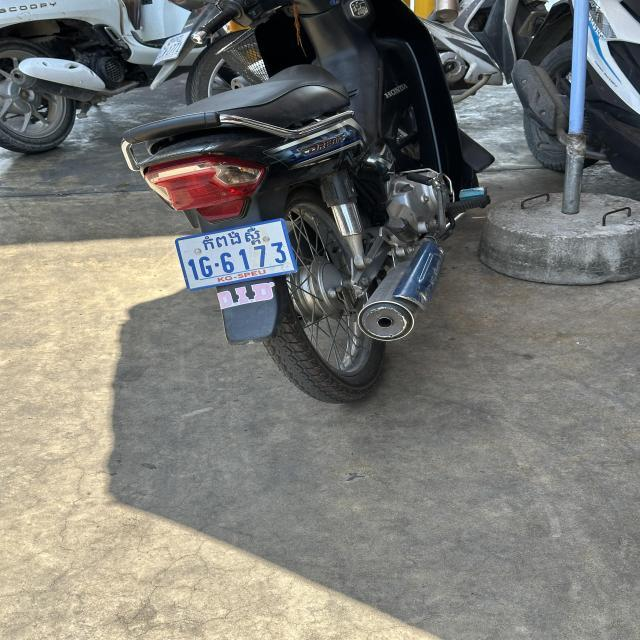Kampong_Speu: (200, 224, 266, 250)
